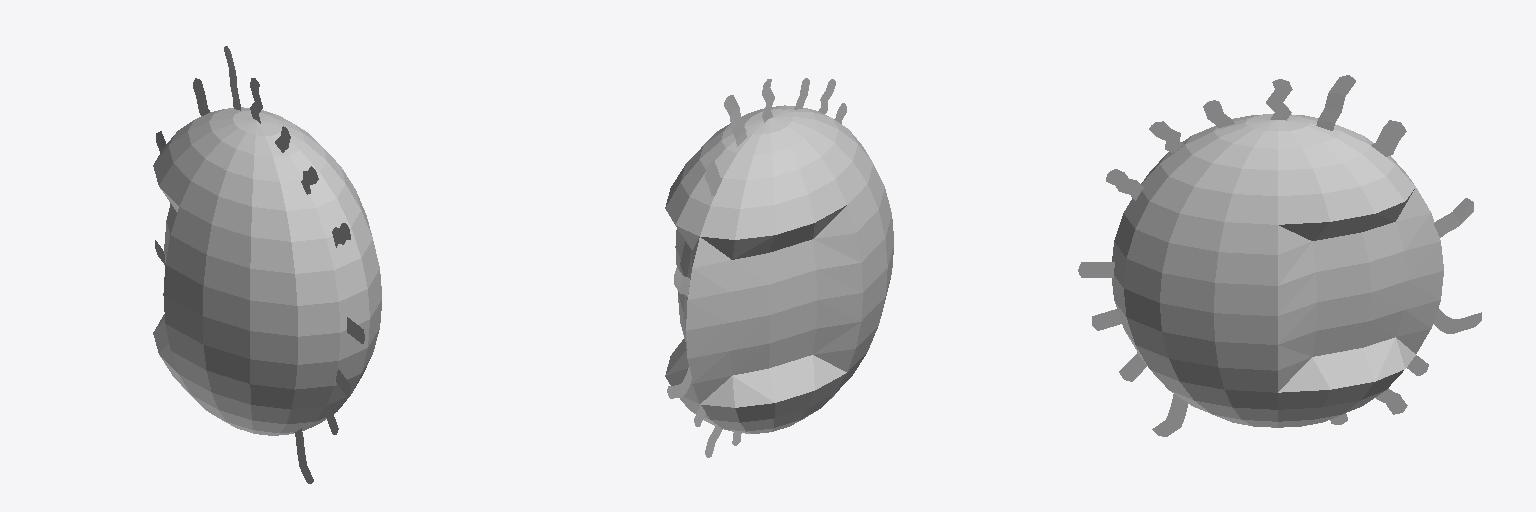
Rendered from APC2.obj.
3 renders of one model, left to right at view 1: azimuth 30°, elevation 25°; view 2: azimuth 150°, elevation 25°; view 3: azimuth 270°, elevation 25°, orthographic.
Visible parts, largest first — view 1: Plane.001; view 2: Plane.001; view 3: Plane.001.
Boxes of the visible parts, x1,y1,x2,y2 form: Plane.001: [153, 46, 381, 483]; Plane.001: [665, 78, 893, 457]; Plane.001: [1078, 75, 1481, 436].
Size of the model in its own units: 1.3 by 2.43 by 2.42.